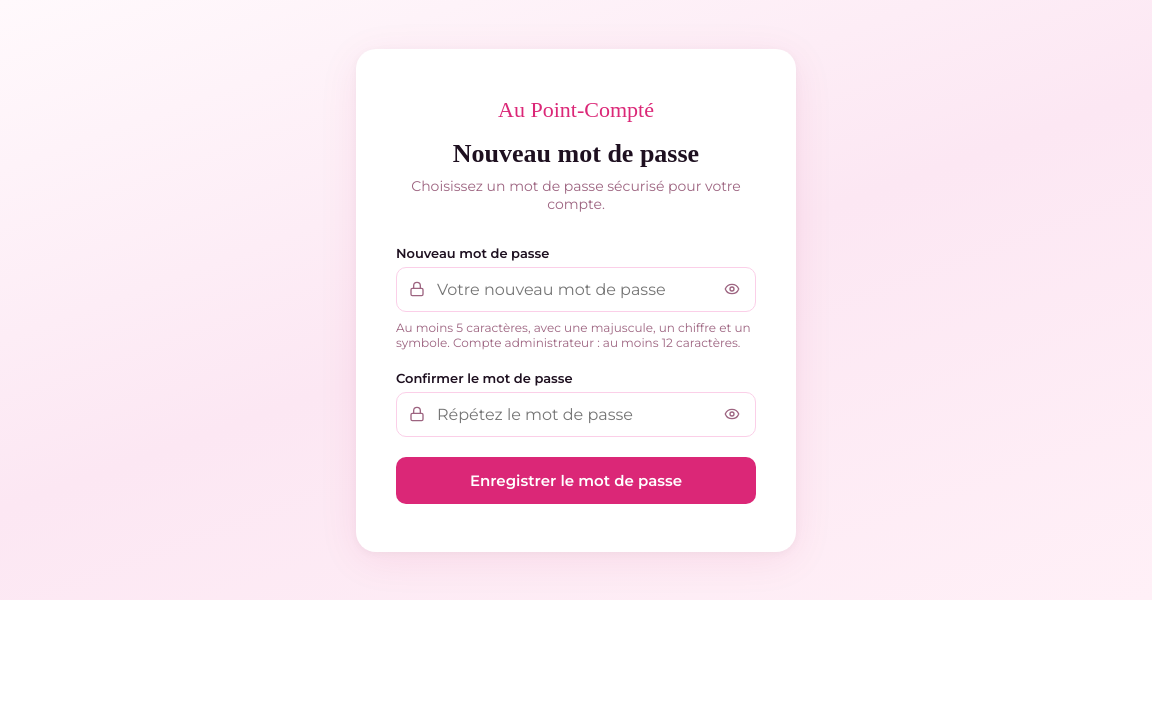
Test case: ResetPassword › mot de passe refusé par le serveur : message sous le champ, pas « lien invalide »
Type "Broderie26!" into the password field labelled "Nouveau mot de passe" at (576, 289), box [396,266,756,312]
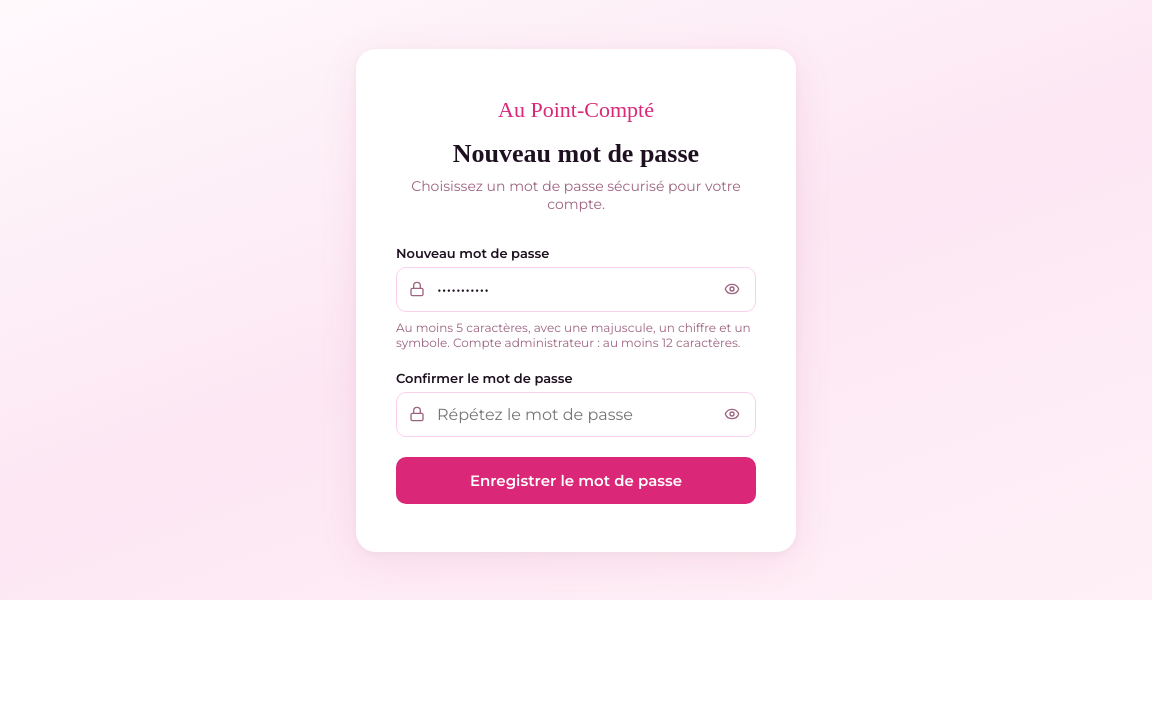
Type "Broderie26!" into the password field labelled "Confirmer le mot de passe" at (576, 414), box [396,392,756,436]
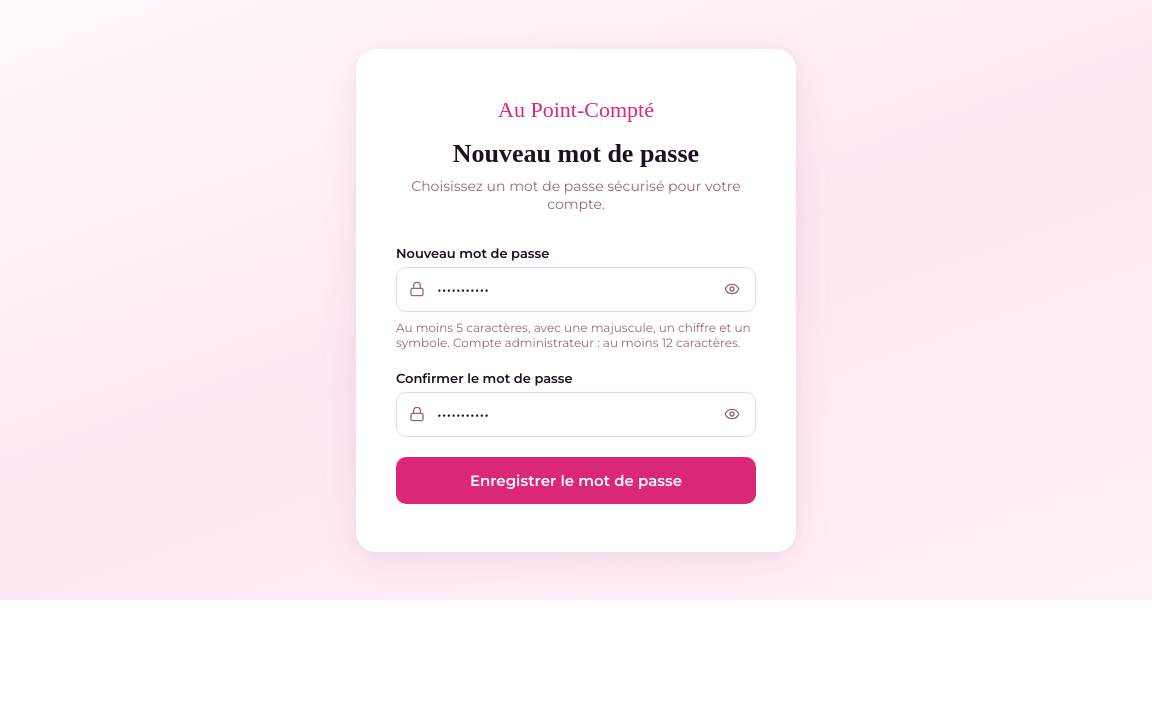
Click the button "Enregistrer le mot de passe" at (576, 480), box [396,456,756,504]
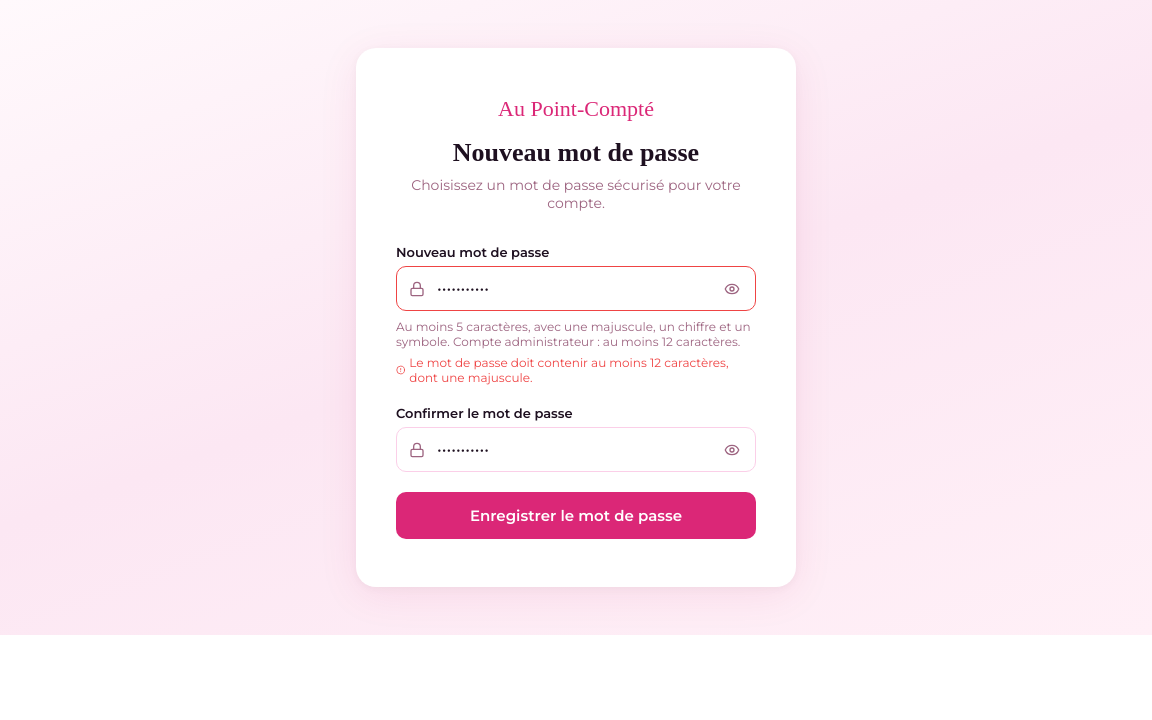
Expected: the text "Le mot de passe doit contenir au moins 12 caractères, dont une majuscule." is shown, [396,355,756,385]
